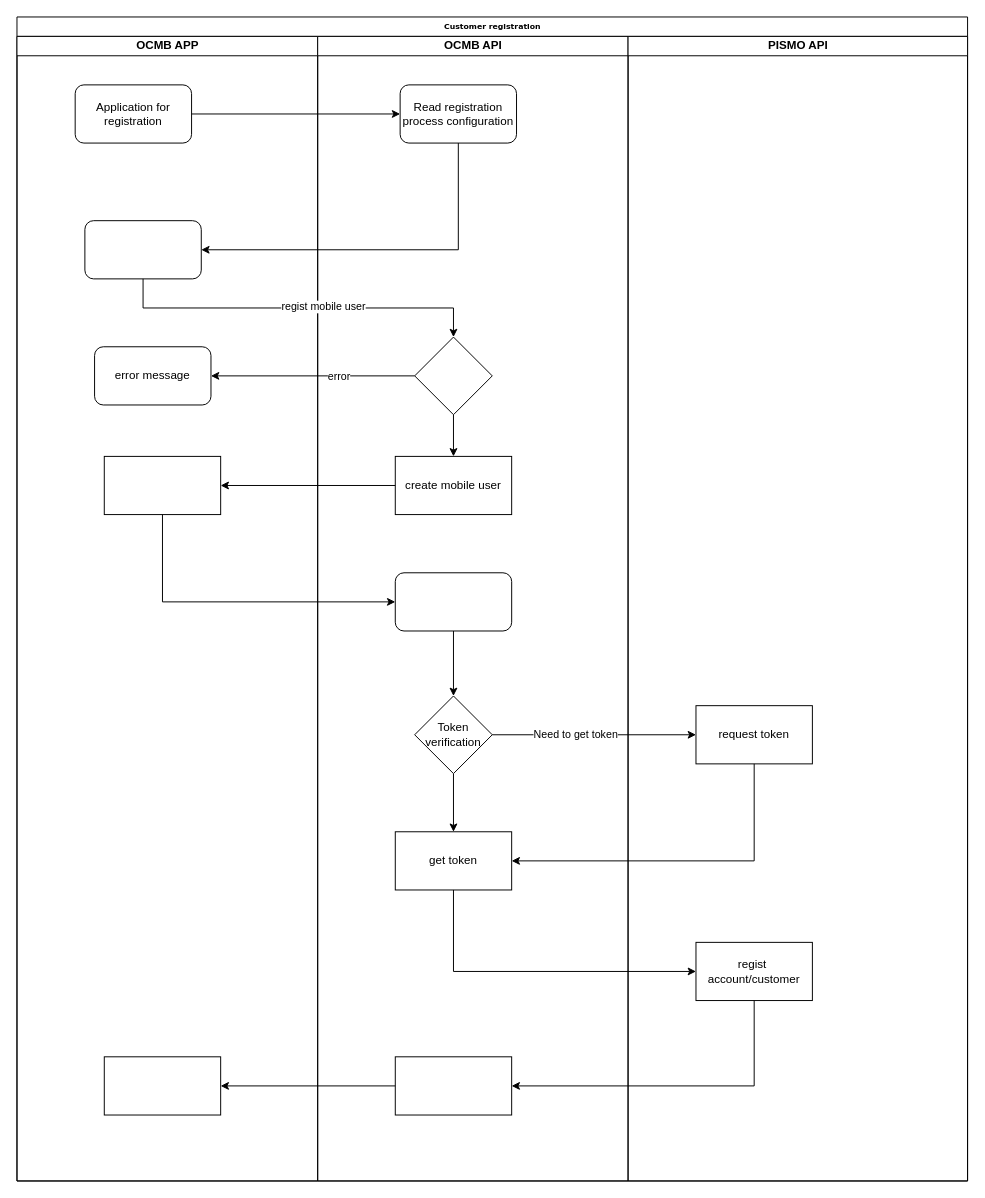
Image size: 985x1198. Some labels were removed from this diagram. The shapes that lost their labels are listed below. From the top down, each one's centre as x and y in pixels, then its label:
the point at 142,249: Registration page
the point at 453,375: Check information
the point at 162,485: Fill registration information
the point at 453,601: save data
the point at 162,1085: regist account/customer successful
the point at 453,1085: update user info
